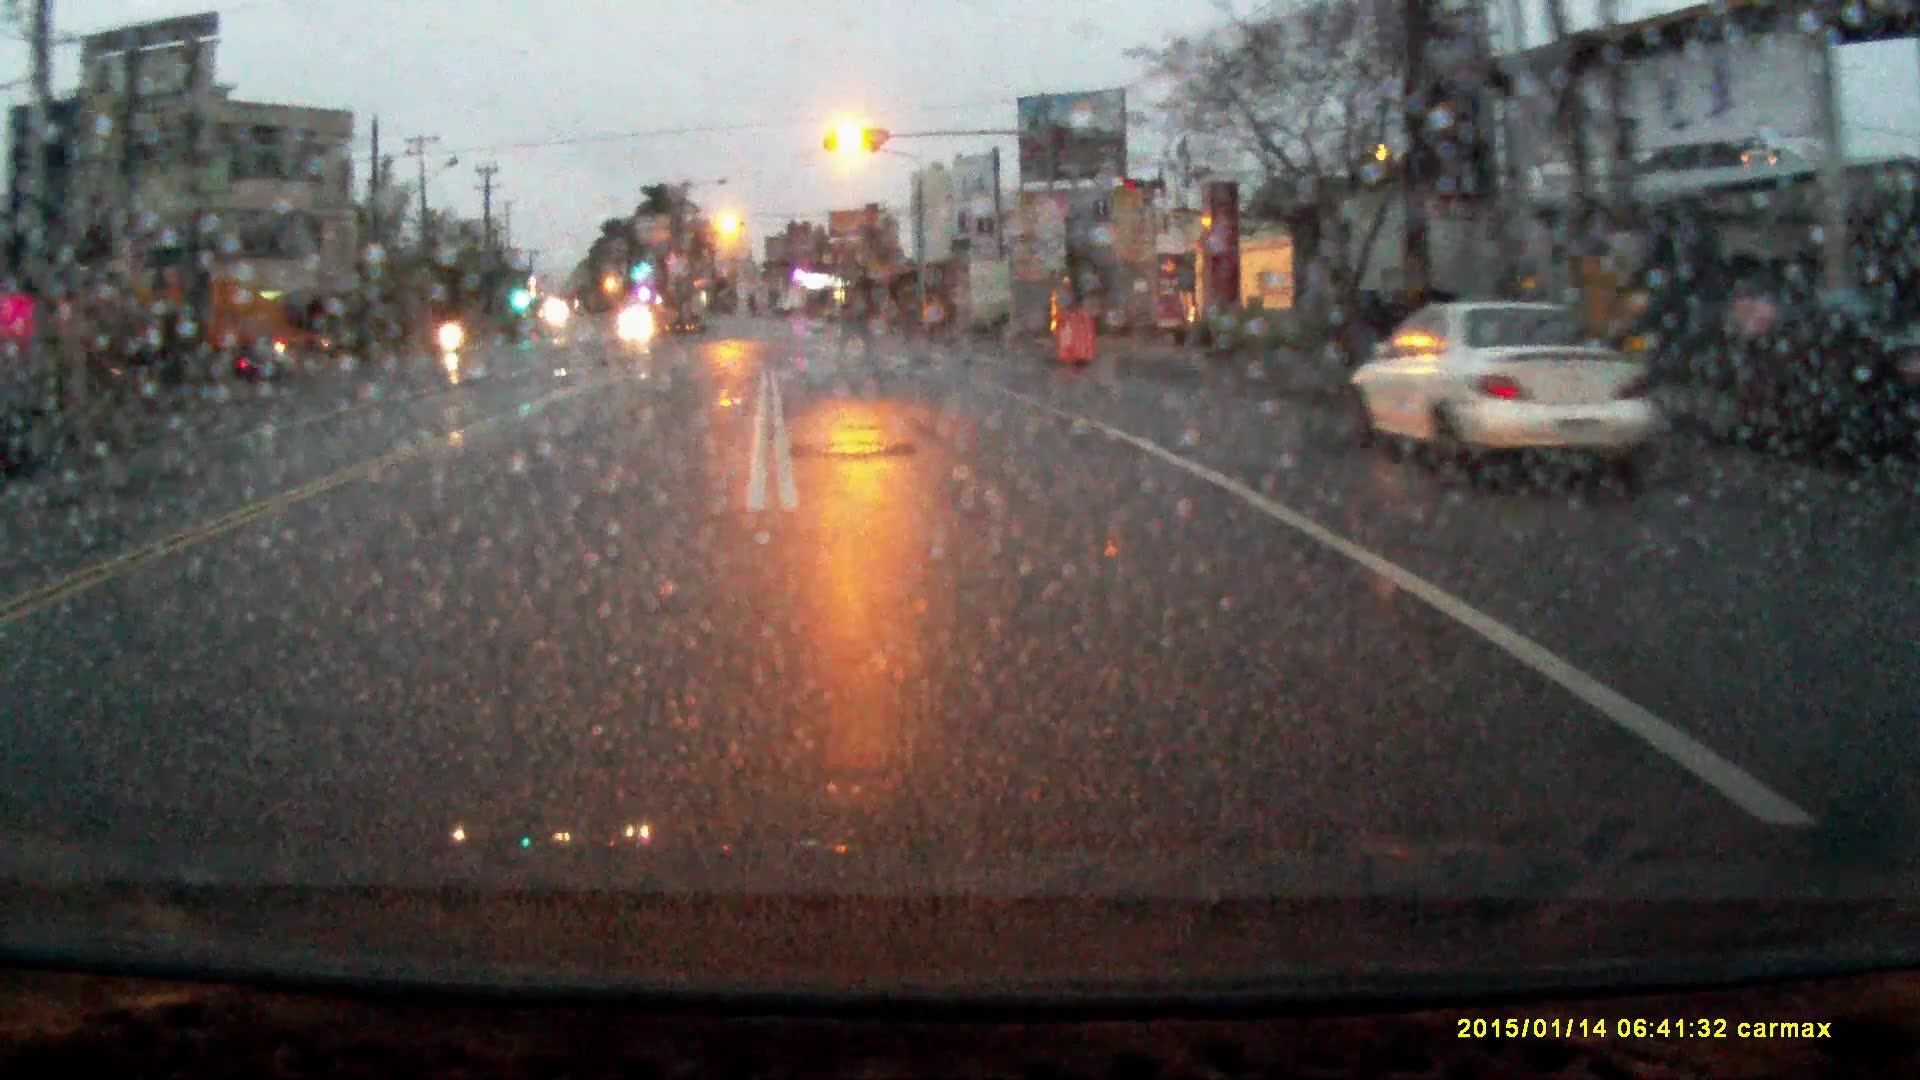rider: (435, 298, 469, 358)
vehicle: (1348, 300, 1687, 483), (80, 259, 321, 365), (618, 301, 655, 334)
